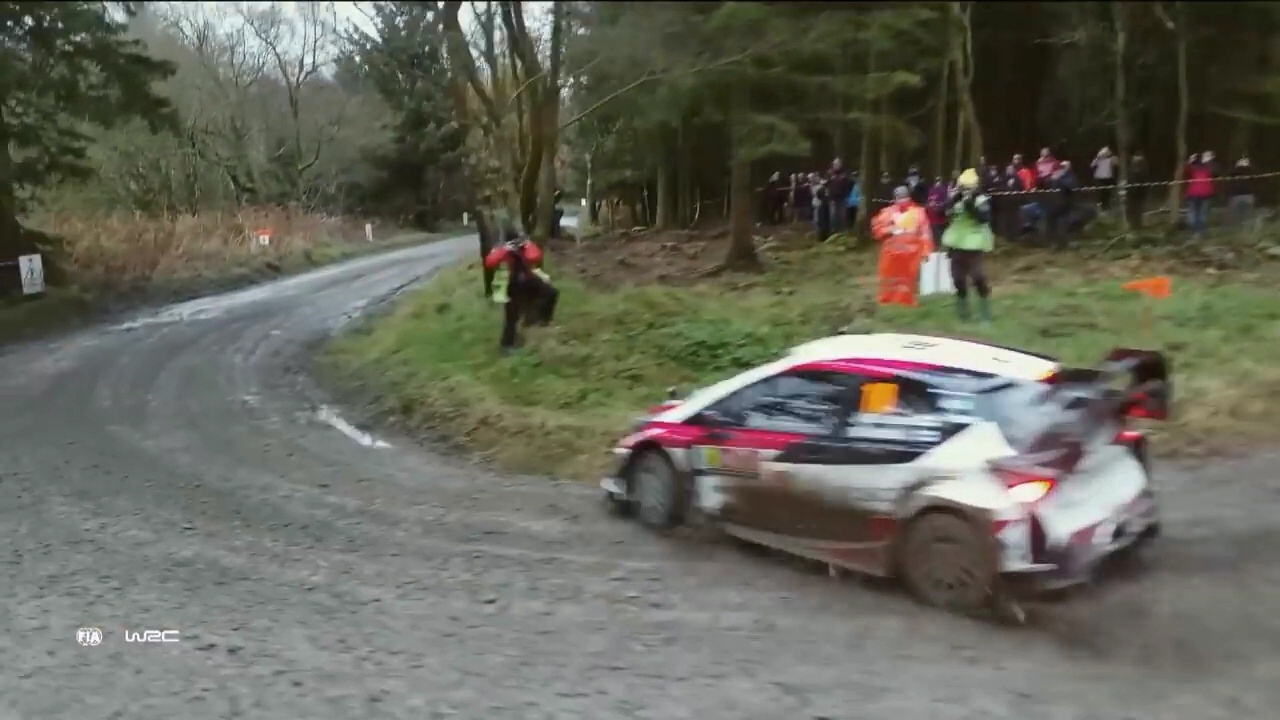araba: (601, 329, 1171, 618)
insan: (939, 165, 999, 327), (866, 184, 936, 315)
